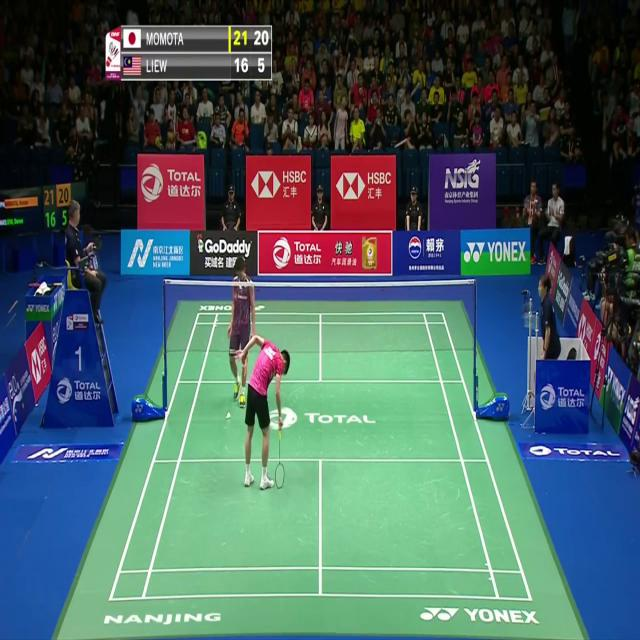Shuttlecock: (226, 410, 232, 422)
